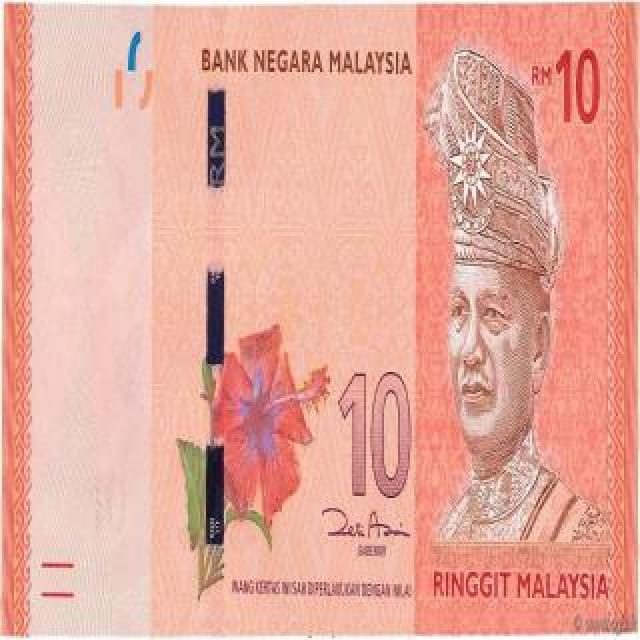10 Ringgit: (4, 4, 634, 637)
